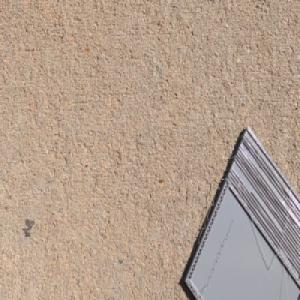PlasticPart: (183, 124, 300, 300)
